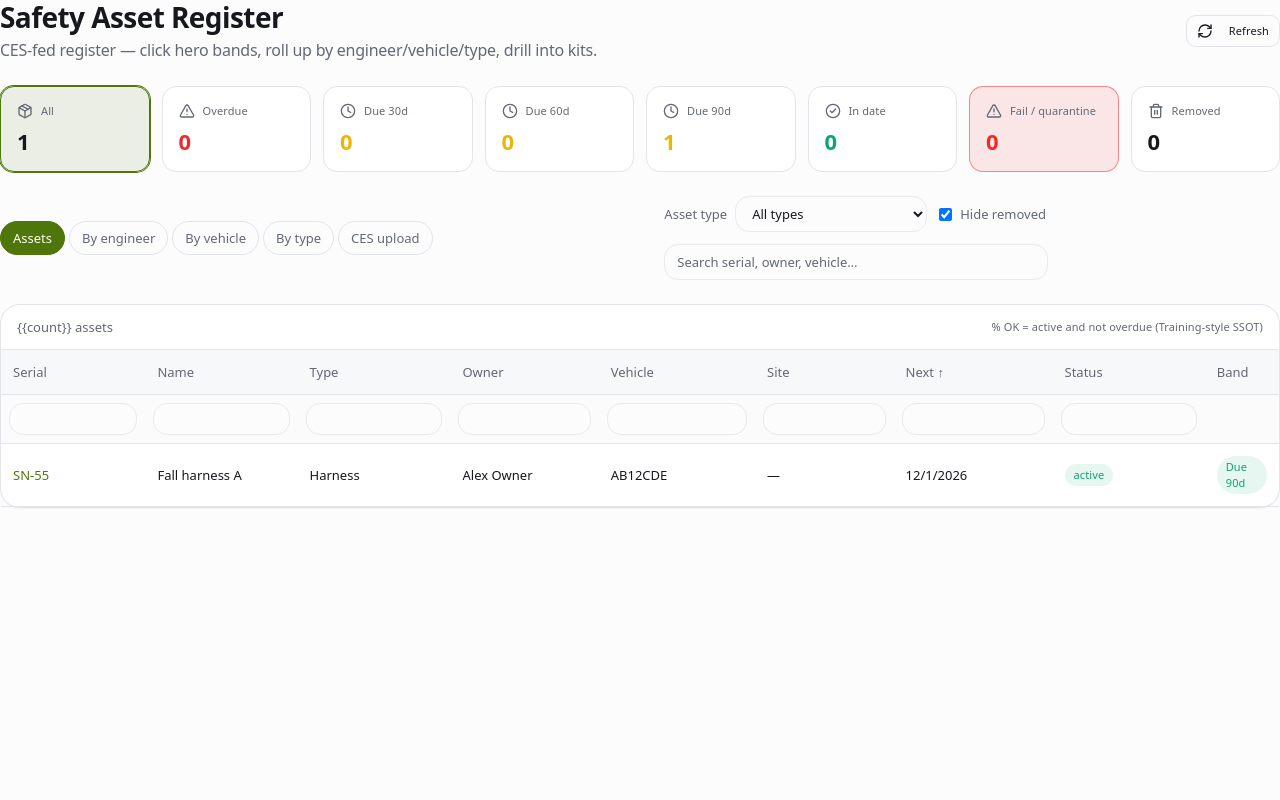
Test case: SafetyAssetRegister Wave 2 board › renders asset rows and engineer rollup drill-in
Expected: the table with test id "safety-assets-table" is shown, [1, 350, 1279, 507]
Expected: the row with test id "safety-asset-row-55" is shown, [1, 444, 1279, 506]
Click the tab with test id "safety-assets-view-engineer" at (119, 238), box [69, 221, 168, 255]
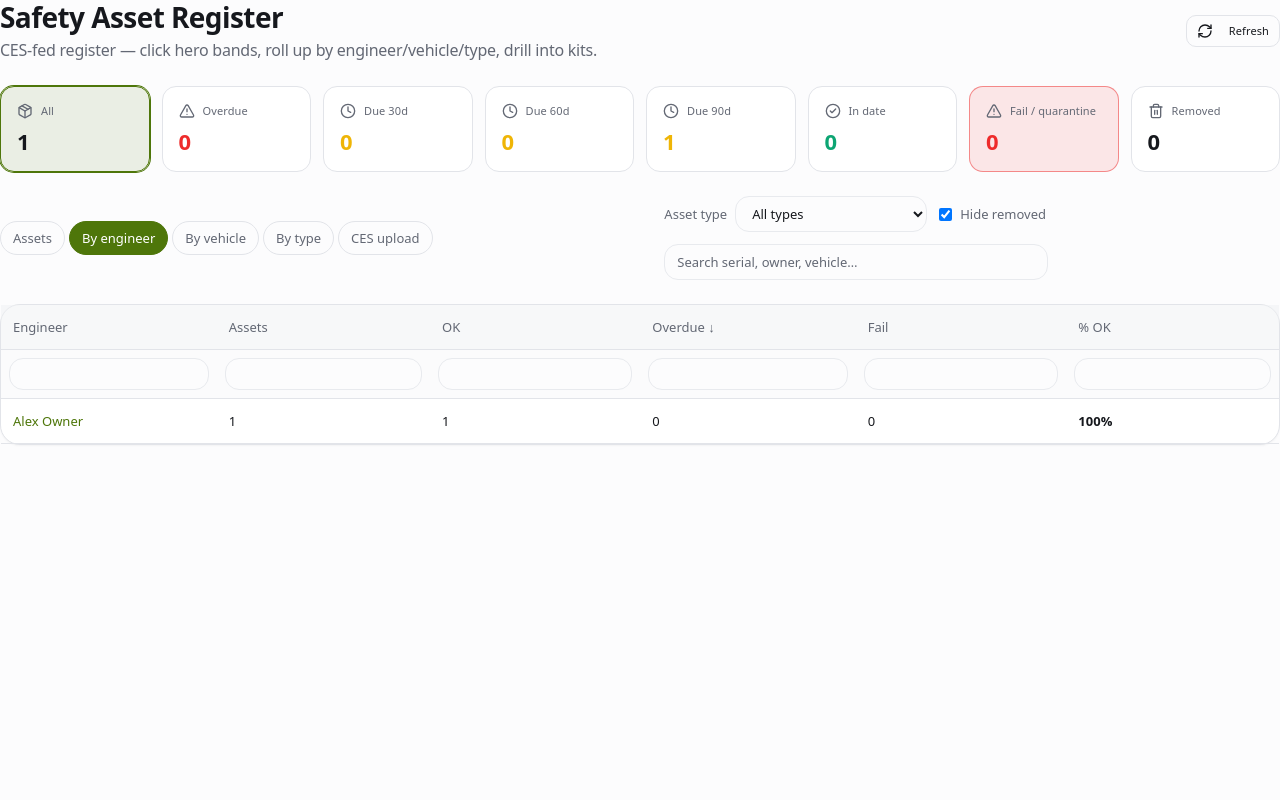
Expected: the table with test id "safety-assets-engineer-table" is shown, [1, 305, 1279, 444]
Click the row with test id "safety-assets-rollup-user:3" at (640, 421), box [1, 398, 1279, 444]
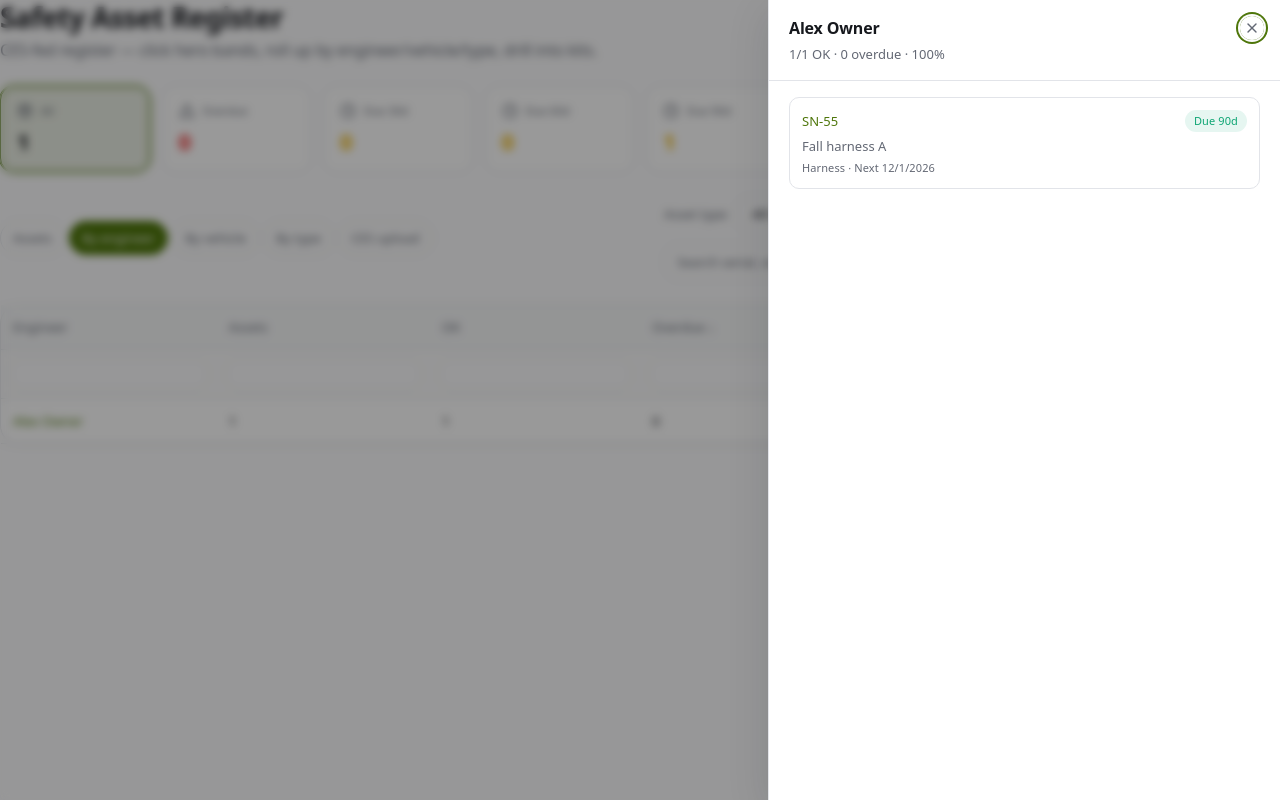
Expected: the dialog with test id "safety-assets-drilldown-sheet" is shown, [768, 0, 1279, 799]
Expected: the element with test id "safety-assets-sheet-row-55" is shown, [789, 97, 1260, 189]
